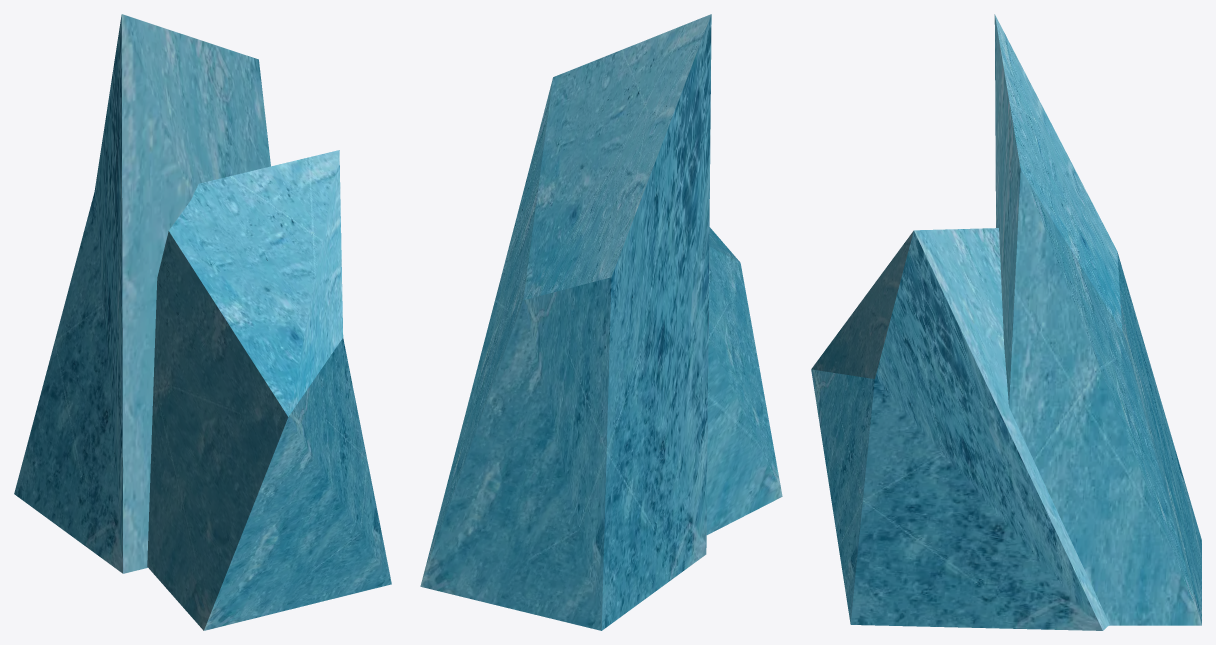
Rendered from ice-glacier-fixed-fixed.fbx.
The picture shows the model from 3 angles, left to right: view 1: azimuth 30°, elevation 25°; view 2: azimuth 150°, elevation 25°; view 3: azimuth 270°, elevation 25°; orthographic projection. The views are drawn at different scales.
Visible parts, largest first — view 1: Cube.001, Cube; view 2: Cube, Cube.001; view 3: Cube.001, Cube.
Boxes of the visible parts, x1,y1,x2,y2 form: Cube.001: [147, 150, 391, 630]; Cube: [14, 14, 270, 573]; Cube: [420, 14, 711, 630]; Cube.001: [706, 227, 782, 534]; Cube.001: [811, 228, 1109, 630]; Cube: [994, 14, 1201, 625].
Bounding box in the file's own units: 218 × 569 × 384.
Materials: 2 (2 with a texture image).
